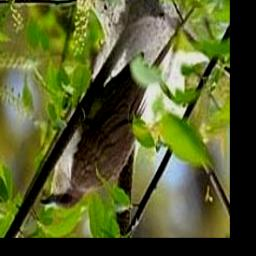Cuckoo: (40, 9, 193, 210)
